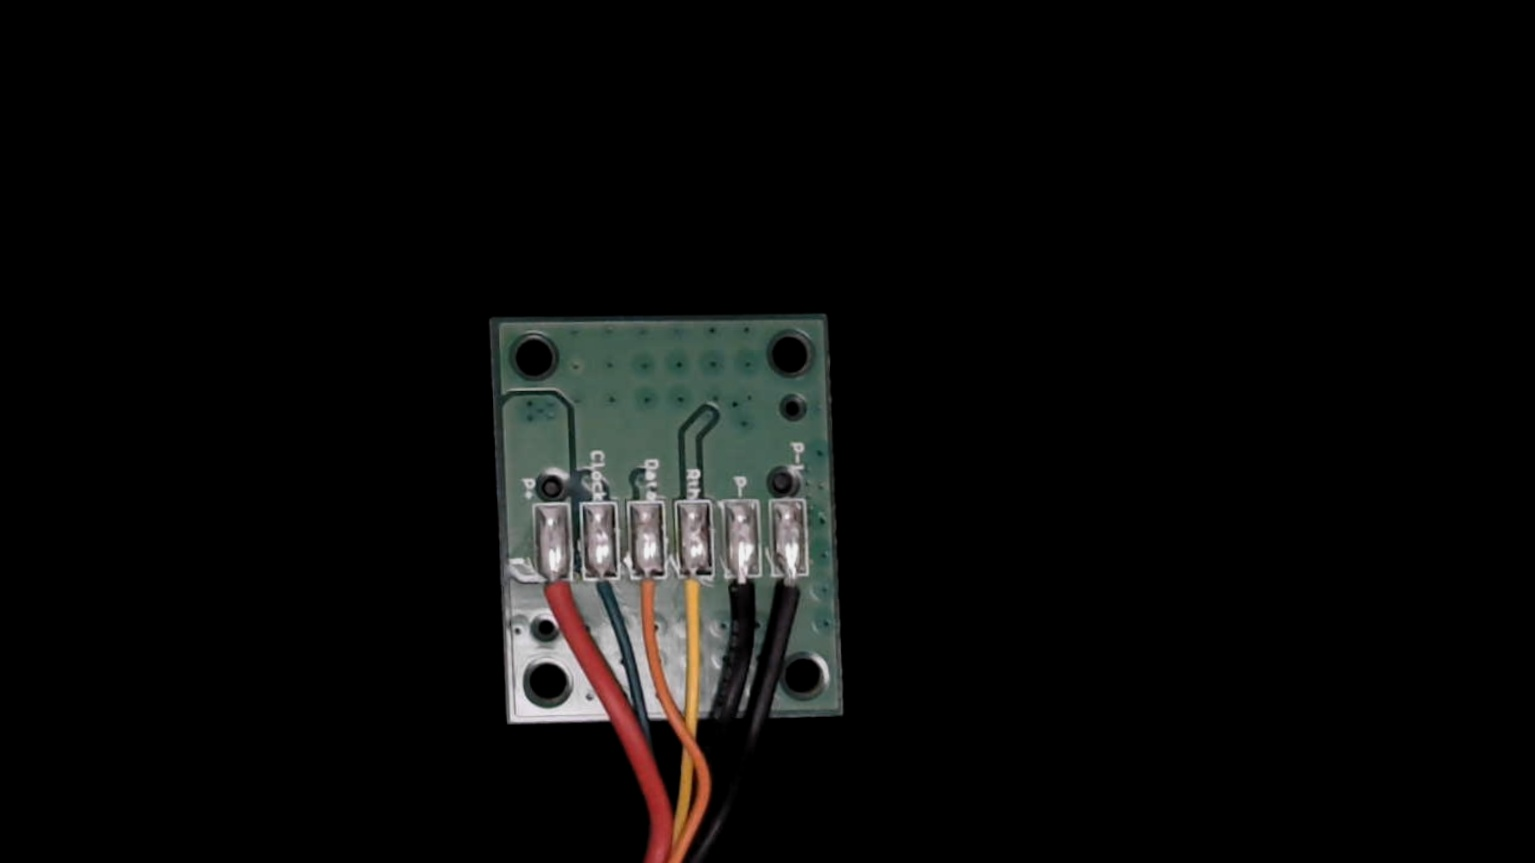Black: (721, 556, 765, 647)
Black1: (774, 554, 816, 638)
Green: (583, 553, 621, 627)
Orange: (629, 553, 671, 636)
Red: (536, 557, 580, 644)
Yellow: (675, 557, 718, 649)
